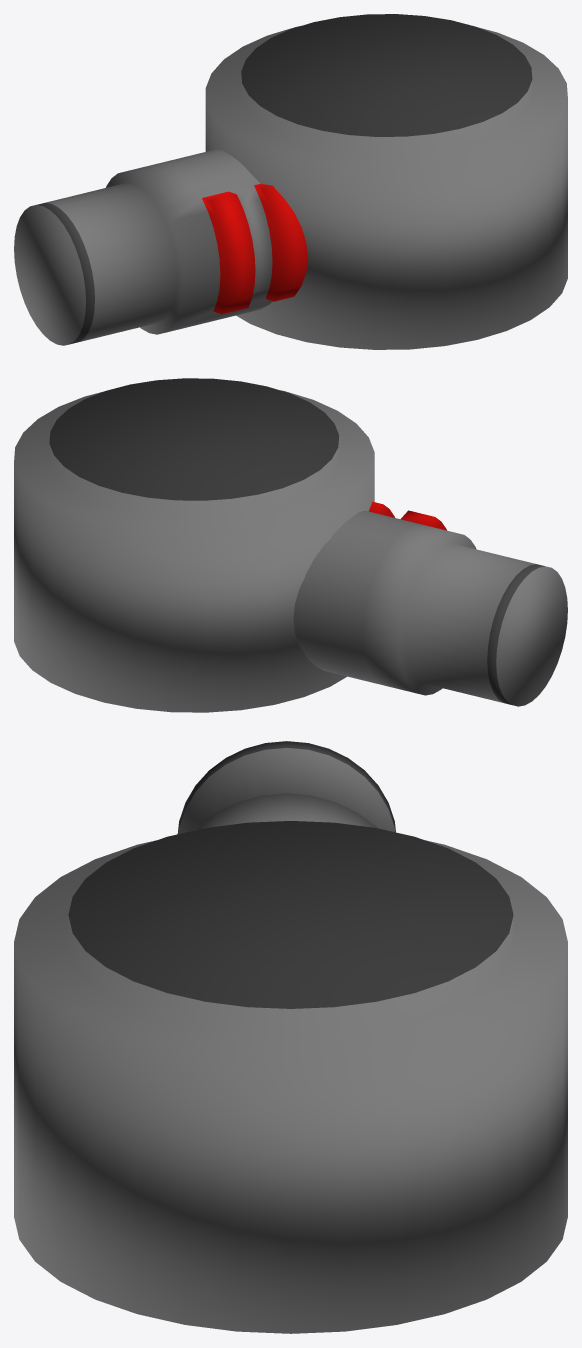
File: shotonp.fbx
3 views of the same model, one above another, from view 1: azimuth 30°, elevation 25°; view 2: azimuth 150°, elevation 25°; view 3: azimuth 270°, elevation 25° (orthographic). The views are drawn at different scales.
Parts seen in each view (by area): view 1: Cylinder.001, Cylinder; view 2: Cylinder.001, Cylinder; view 3: Cylinder.001, Cylinder.
Boxes of the visible parts, box(x1,y1,x2,y2) form: Cylinder.001: box(205, 14, 567, 349); Cylinder: box(14, 149, 308, 345); Cylinder.001: box(14, 378, 374, 712); Cylinder: box(293, 501, 567, 706); Cylinder.001: box(14, 821, 567, 1333); Cylinder: box(177, 741, 395, 834).
Size of the model in its own units: 685 by 262 by 435.
